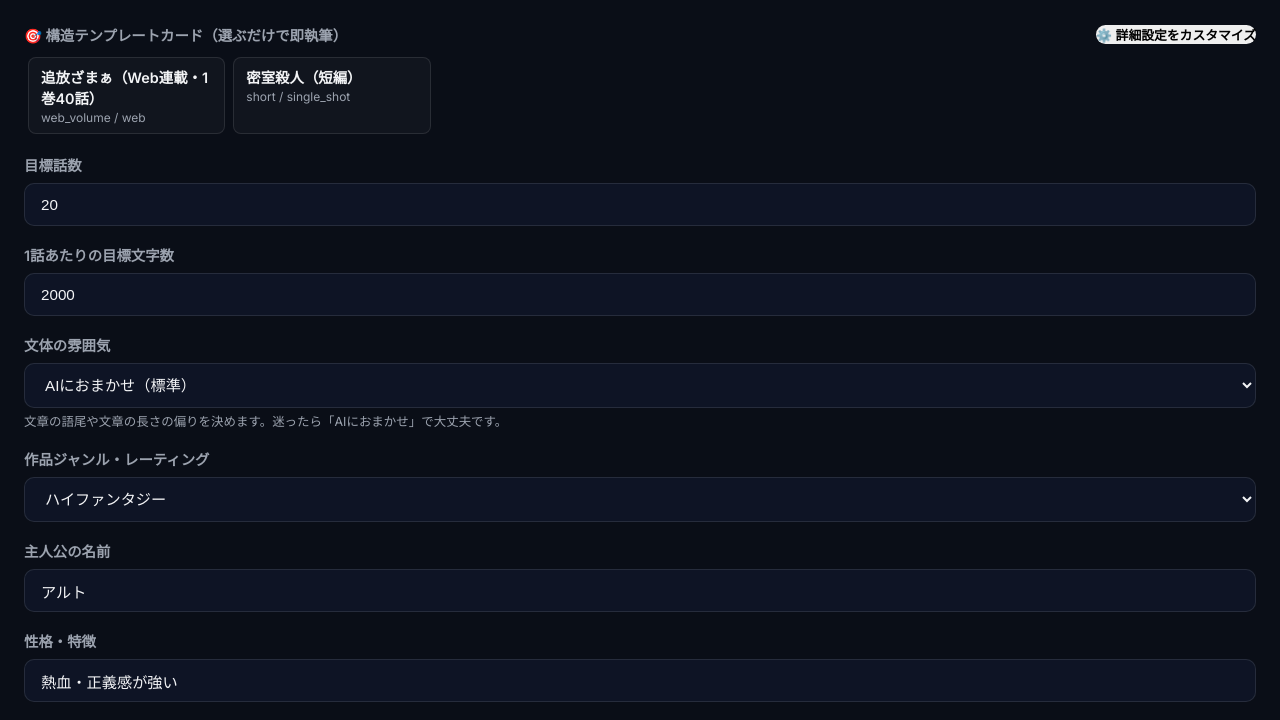
Test case: SimpleModePanel カード選択 › **カード選択で話数が length.eps_range から自動入力される**
Click the text "追放ざまぁ（Web連載・1巻40話）".
click(127, 96)  # box [28,57,225,134]
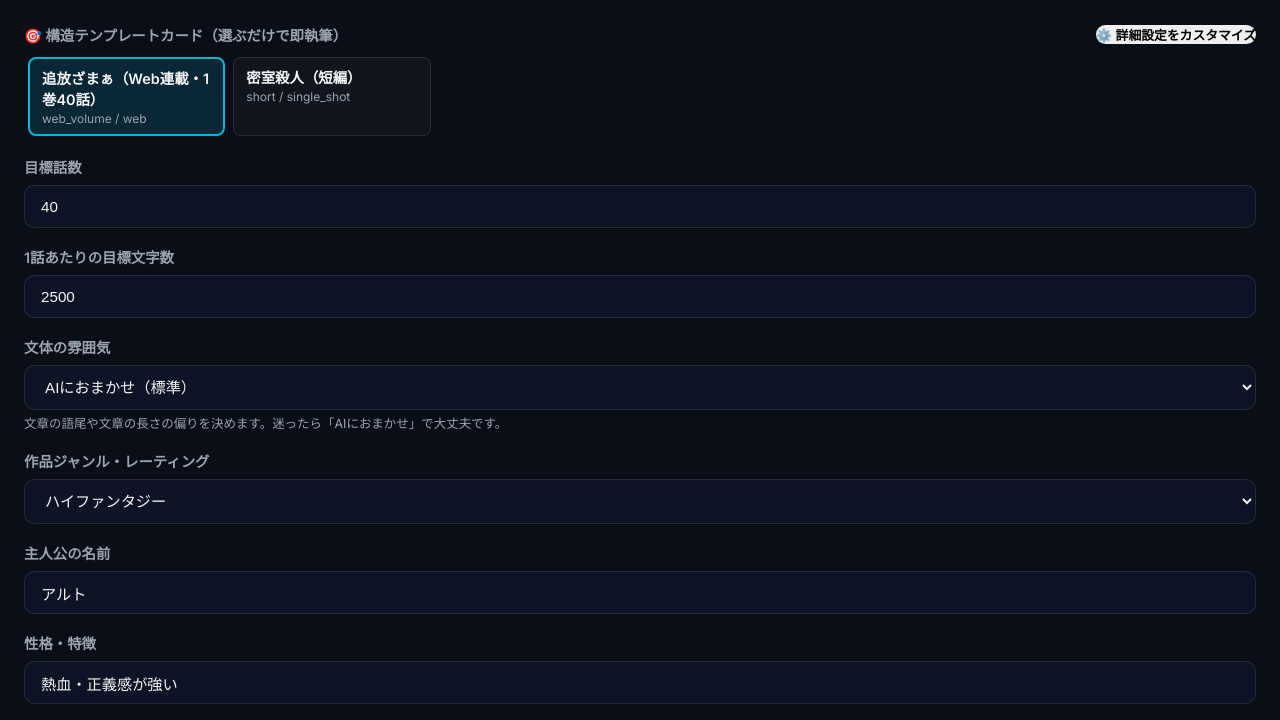
Result: the number field labelled "目標話数" holds "40" at [24,185,1256,228]
